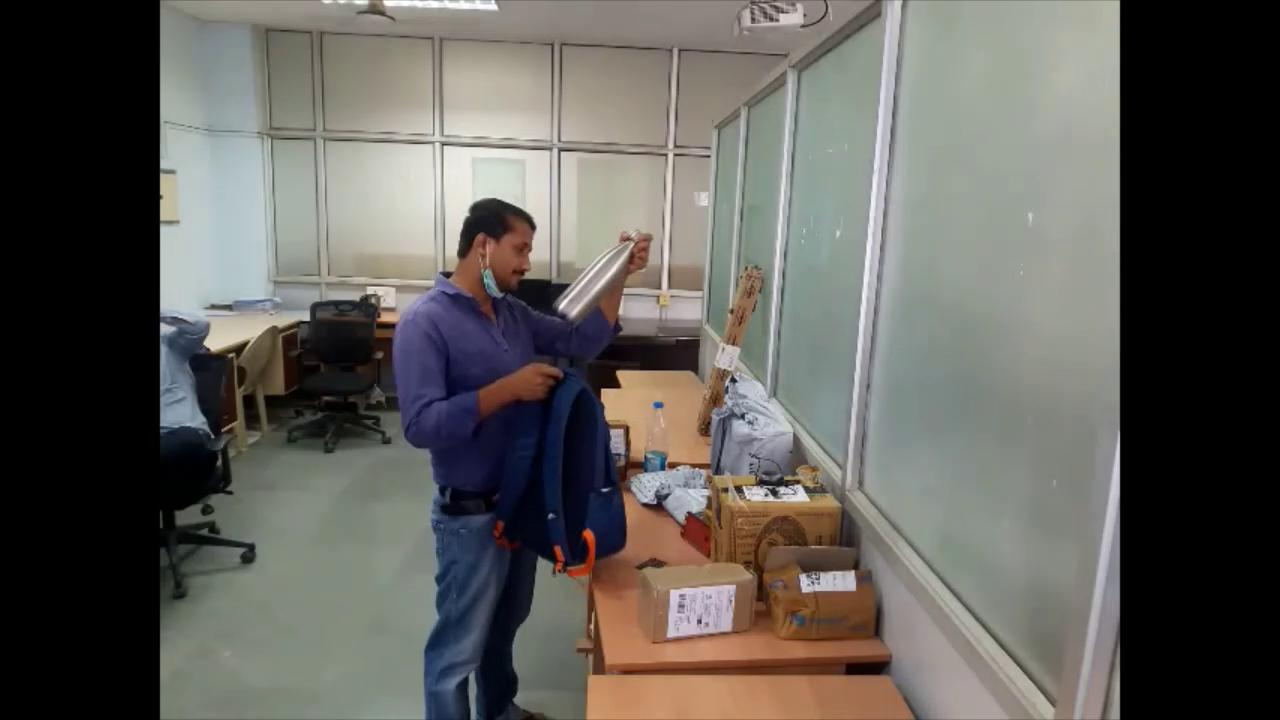shoplifting: (390, 200, 662, 720)
